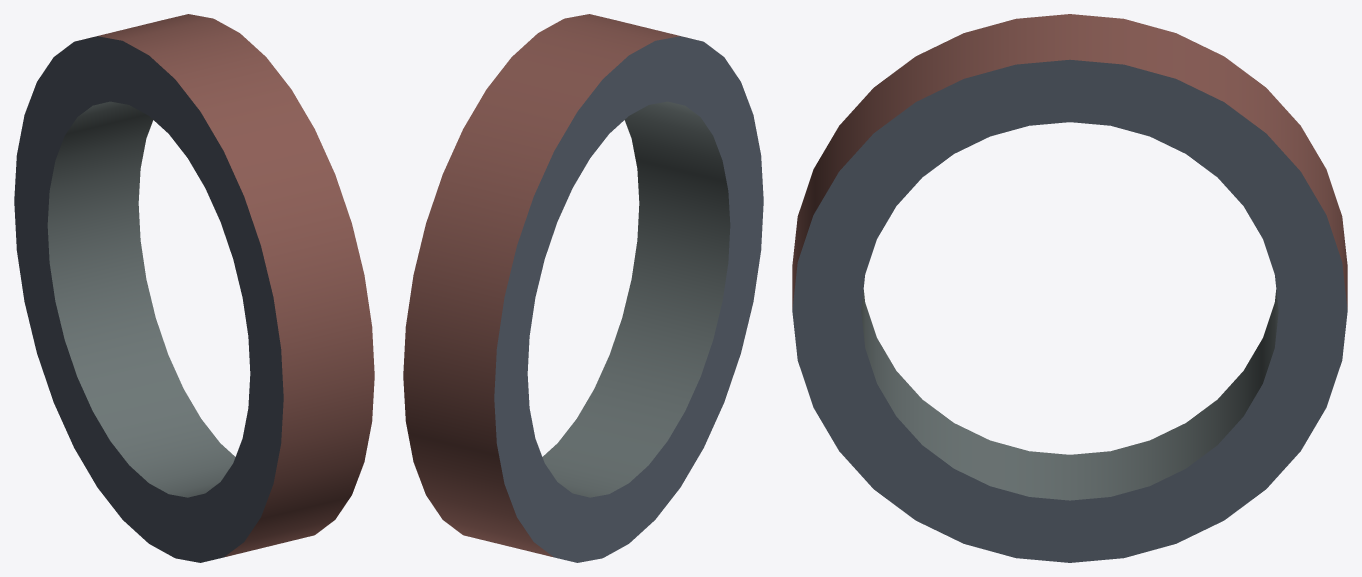
File: DubbleAdhesiveTape_01.fbx
The picture shows the model from 3 angles, left to right: view 1: azimuth 30°, elevation 25°; view 2: azimuth 150°, elevation 25°; view 3: azimuth 270°, elevation 25°; orthographic projection. The views are drawn at different scales.
Parts seen in each view (by area): view 1: Small Taperoll; view 2: Small Taperoll; view 3: Small Taperoll.
Part boxes in pixels (bbox=[...]): Small Taperoll: bbox=[14, 14, 374, 562]; Small Taperoll: bbox=[403, 14, 763, 562]; Small Taperoll: bbox=[792, 14, 1347, 562].
Size of the model in its own units: 1.95 by 10 by 10.
